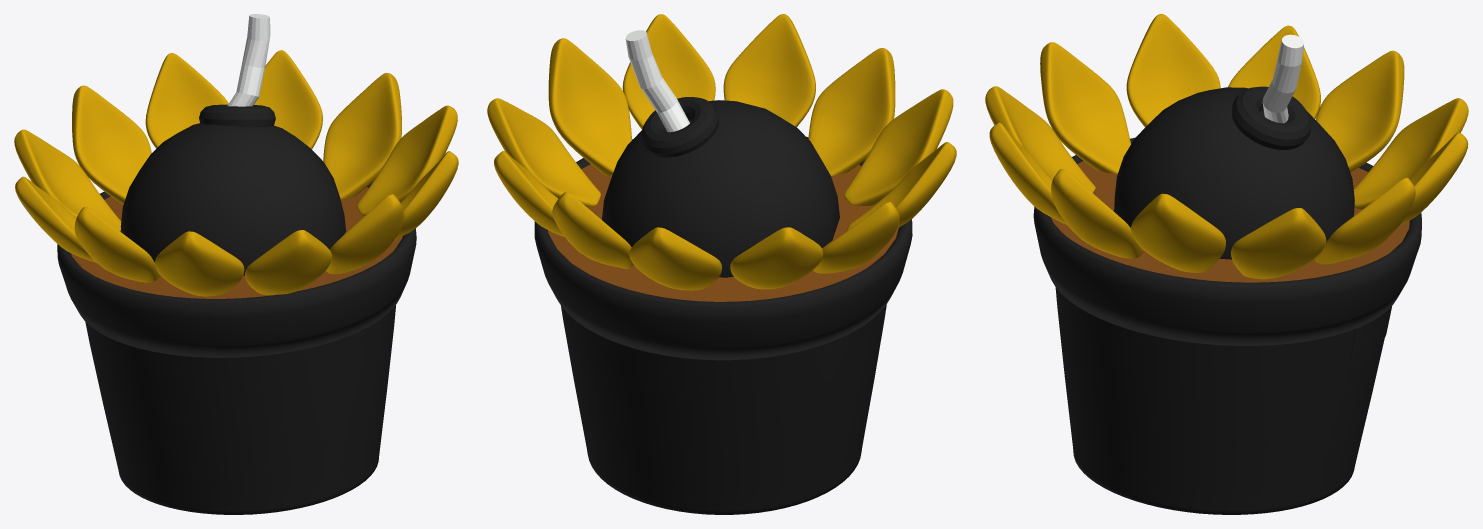
The model's file is asset1.glb.
3 views of the same model, side by side, from view 1: azimuth 30°, elevation 25°; view 2: azimuth 150°, elevation 25°; view 3: azimuth 270°, elevation 25° (orthographic). The views are drawn at different scales.
Visible parts, largest first — view 1: Pot; view 2: Pot; view 3: Pot.
Boxes of the visible parts, left/top/right/bottom form: Pot: left=14, top=14, right=458, bottom=514; Pot: left=487, top=14, right=956, bottom=514; Pot: left=985, top=14, right=1468, bottom=514.
Size of the model in its own units: 1.13 by 1.18 by 1.14.
